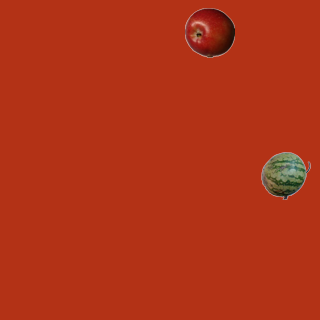Apple Braeburn: (184, 7, 234, 57)
Watermelon: (260, 150, 310, 200)
